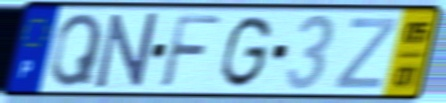3: (284, 12, 339, 93)
F: (157, 12, 225, 91)
G: (218, 13, 275, 91)
N: (93, 10, 161, 91)
Q: (48, 11, 106, 90)
Z: (331, 15, 400, 92)
